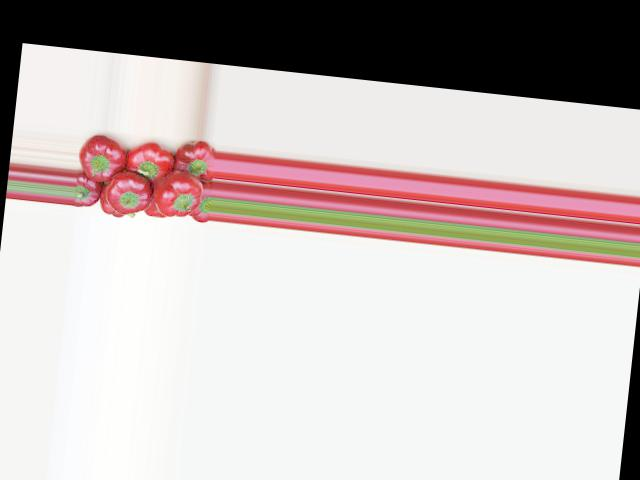bell_pepper: (143, 199, 164, 220)
